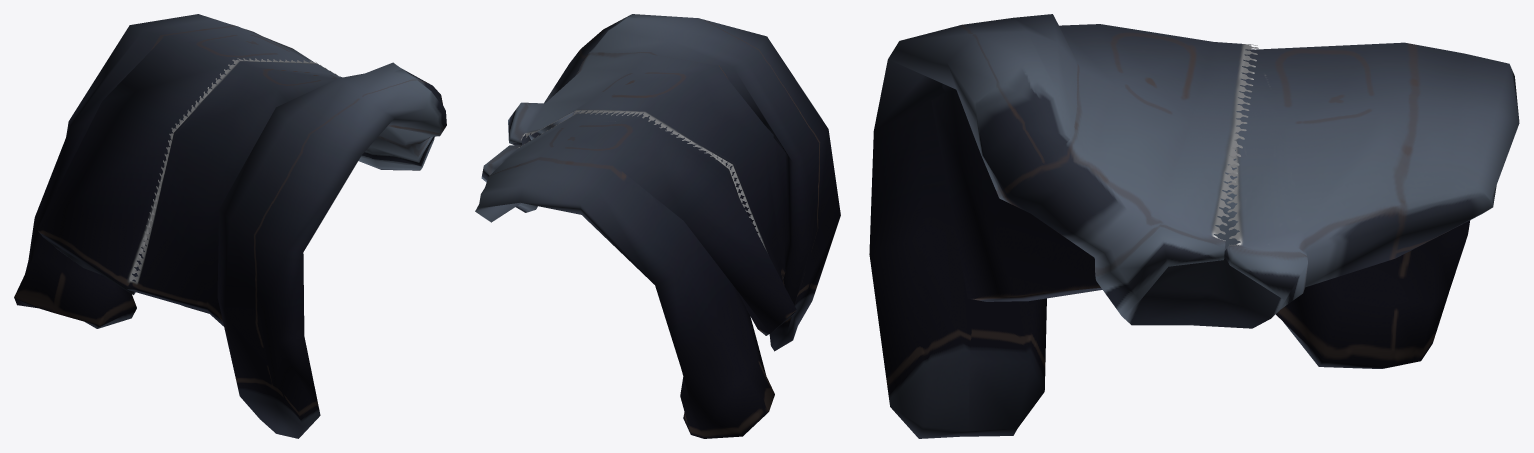
Rendered from mesh_jacket_LOD1.fbx.
3 views of the same model, side by side, from view 1: azimuth 30°, elevation 25°; view 2: azimuth 150°, elevation 25°; view 3: azimuth 270°, elevation 25° (orthographic). The views are drawn at different scales.
Visible parts, largest first — view 1: jacketbase.001; view 2: jacketbase.001; view 3: jacketbase.001.
Boxes of the visible parts, x1,y1,x2,y2 form: jacketbase.001: [14, 14, 446, 438]; jacketbase.001: [475, 14, 840, 438]; jacketbase.001: [869, 14, 1519, 438].
Size of the model in its own units: 112 by 97.98 by 122.
